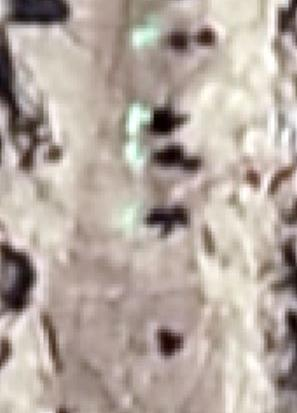cotton: (134, 22, 162, 46), (115, 208, 139, 231), (129, 104, 150, 130), (126, 145, 150, 165)
